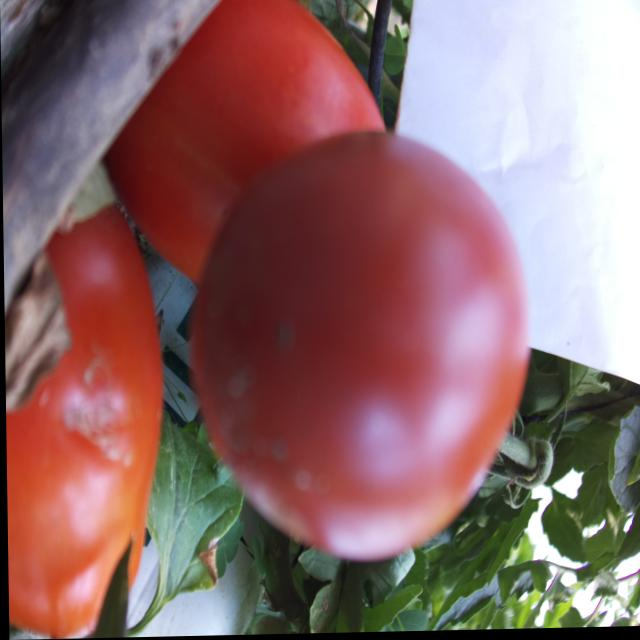kirmizi: (61, 0, 530, 572)
